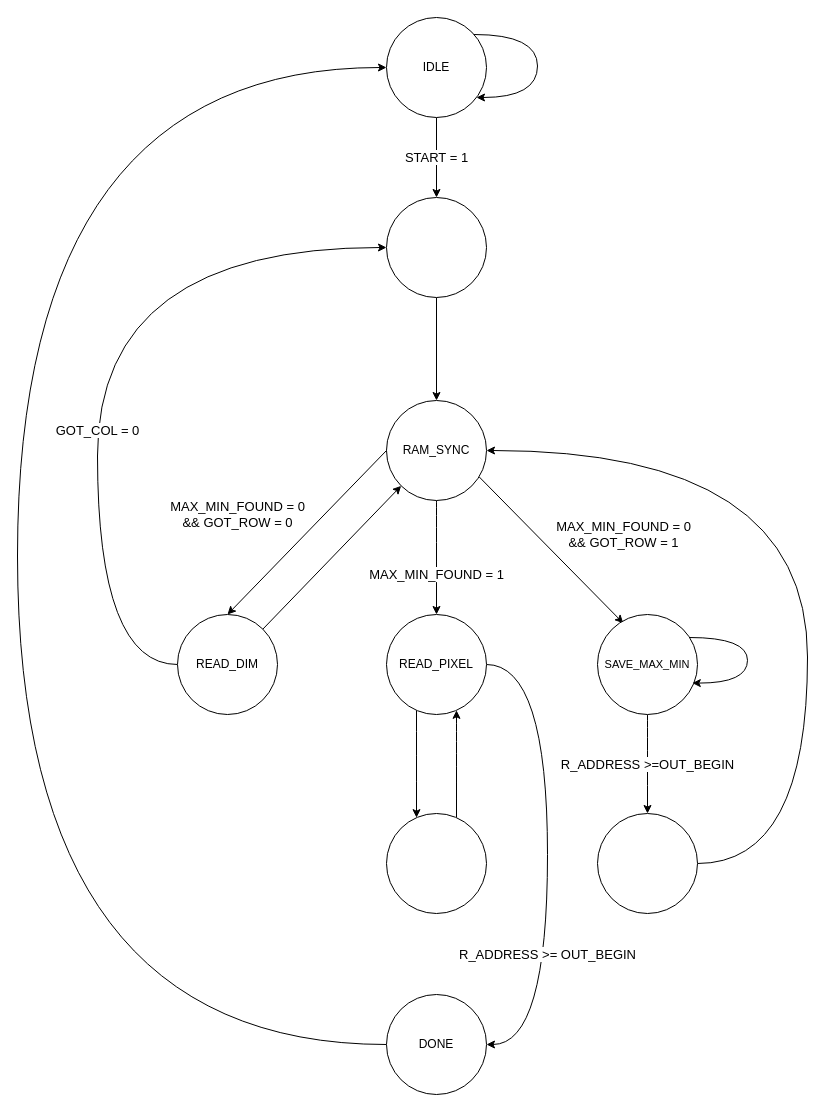
The diagram is 825 pixels wide and 1112 high, and some of its shapes have lost their labels. Each missing label, with the centre of its shape:
"ASK_DIM" goes at [436,247].
"COMPUTE_SHIFT" goes at [647,863].
"EQ_AND_WRITE" goes at [436,863].
